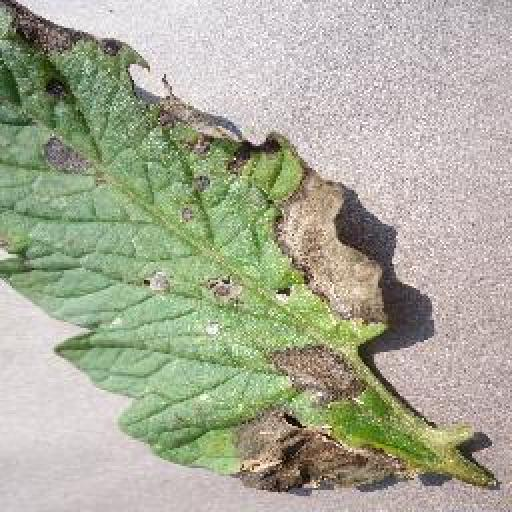Late Blight: (0, 0, 447, 496)
